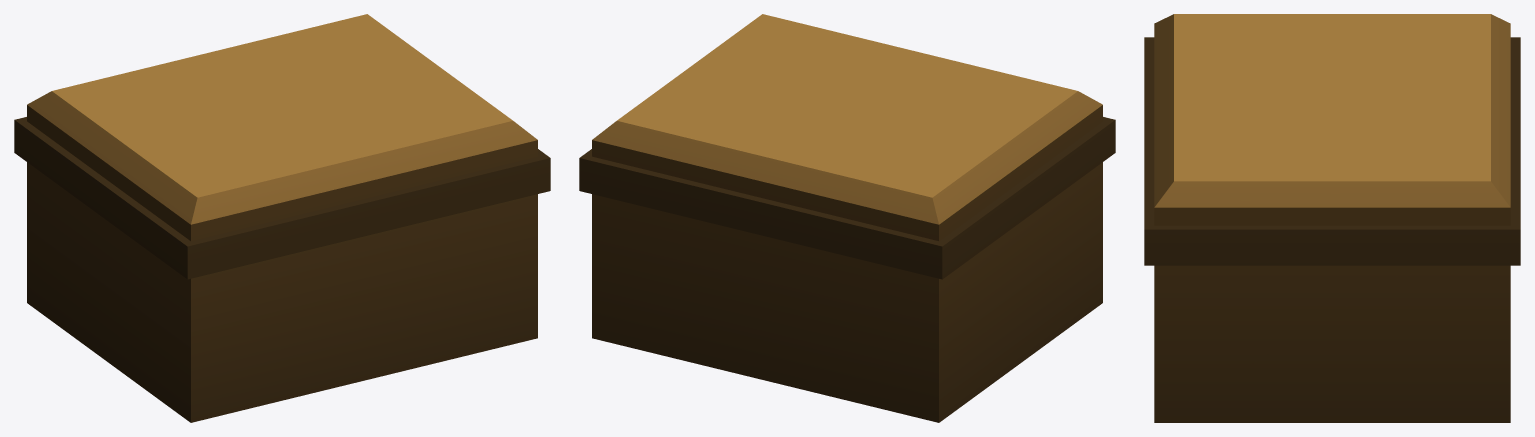
File: wooden-chest.glb
3 views of the same model, side by side, from view 1: azimuth 30°, elevation 25°; view 2: azimuth 150°, elevation 25°; view 3: azimuth 270°, elevation 25° (orthographic). The views are drawn at different scales.
Parts seen in each view (by area): view 1: wooden-chest; view 2: wooden-chest; view 3: wooden-chest.
Boxes of the visible parts, x1=… form: wooden-chest: x1=14, y1=14, x2=550, y2=422; wooden-chest: x1=579, y1=14, x2=1115, y2=422; wooden-chest: x1=1144, y1=14, x2=1520, y2=422.
Bounding box in the file's own units: 0.23 × 0.13 × 0.19.
